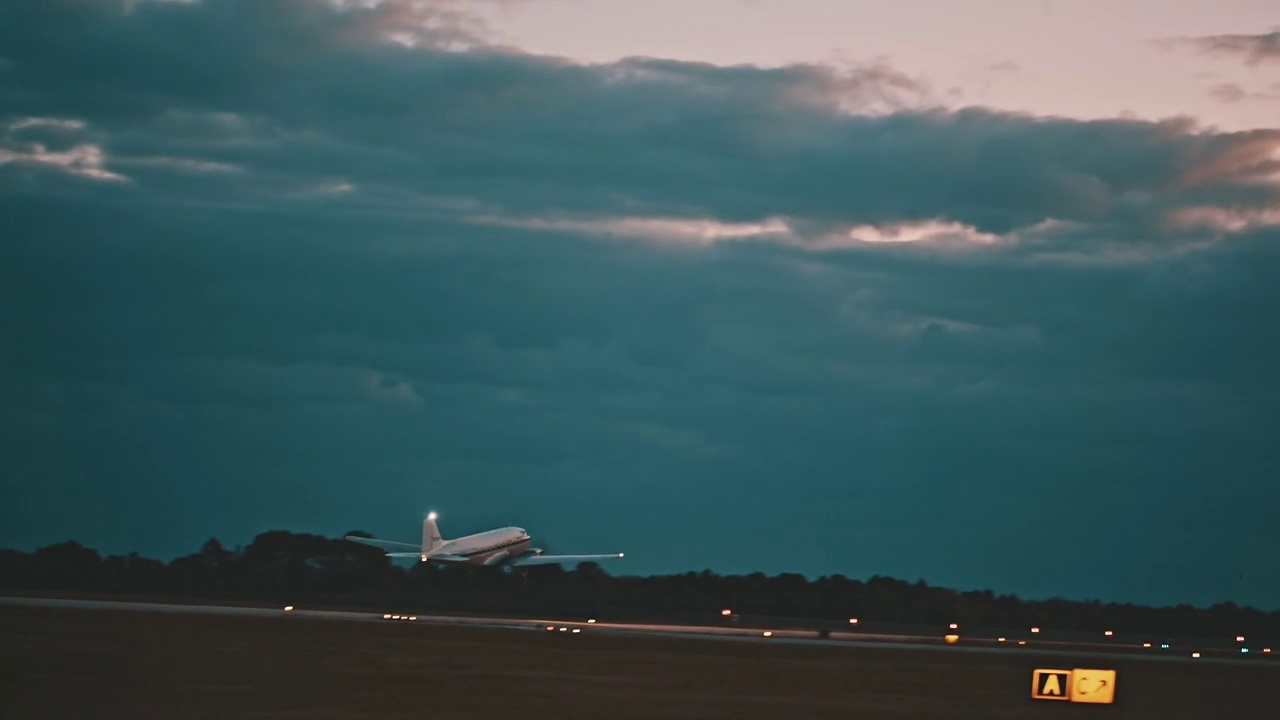plane: (344, 513, 625, 585)
